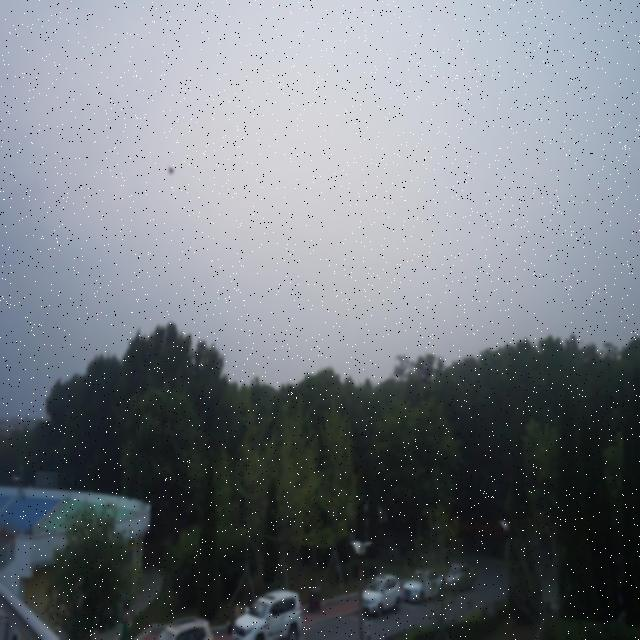UAV: (168, 166, 174, 176)
